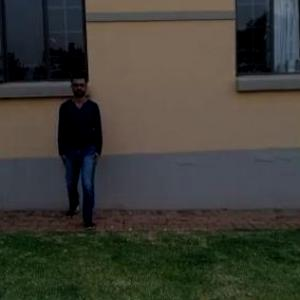follow: (56, 70, 101, 224)
